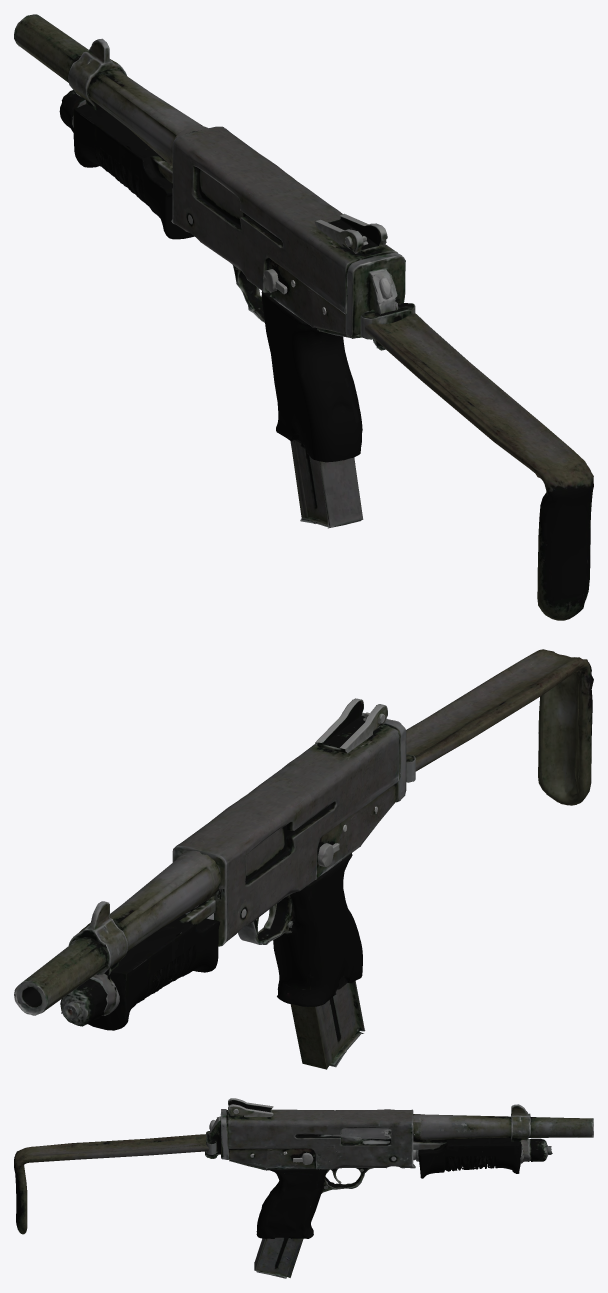
File: mag7.glb
3 views of the same model, one above another, from view 1: azimuth 30°, elevation 25°; view 2: azimuth 150°, elevation 25°; view 3: azimuth 270°, elevation 25° (orthographic). The views are drawn at different scales.
Visible parts, largest first — view 1: govde; view 2: govde; view 3: govde.
Part boxes in pixels (bbox=[...]): govde: bbox=[14, 14, 593, 620]; govde: bbox=[14, 649, 593, 1069]; govde: bbox=[14, 1098, 593, 1278].
Bounding box in the file's own units: 0.0507 × 0.2704 × 0.82.
Materials: 1 (1 with a texture image).
